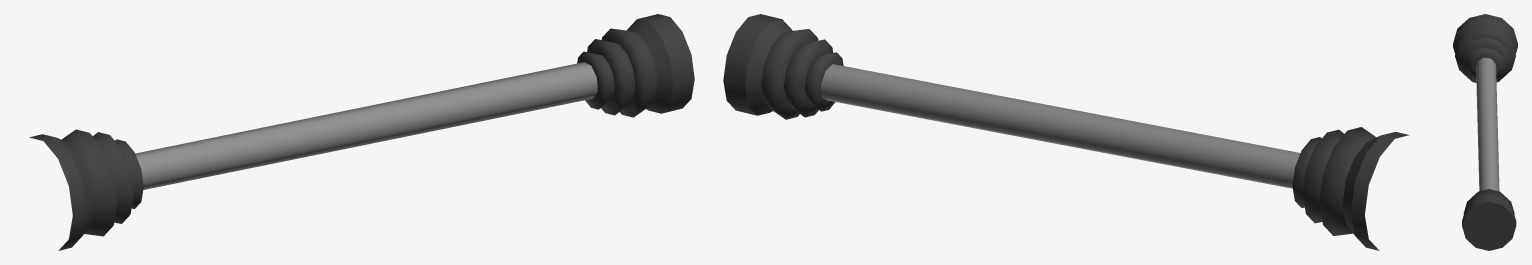
The model's file is halfshaft.glb.
3 views of the same model, side by side, from view 1: azimuth 30°, elevation 25°; view 2: azimuth 150°, elevation 25°; view 3: azimuth 270°, elevation 25° (orthographic). The views are drawn at different scales.
Parts seen in each view (by area): view 1: Object004, lansdale_halfshaft_R; view 2: Object004, lansdale_halfshaft_R; view 3: lansdale_halfshaft_R, Object004.
Boxes of the visible parts, bbox=[...] form: Object004: bbox=[135, 62, 597, 189]; lansdale_halfshaft_R: bbox=[29, 14, 694, 250]; Object004: bbox=[821, 64, 1300, 188]; lansdale_halfshaft_R: bbox=[723, 14, 1409, 250]; lansdale_halfshaft_R: bbox=[1453, 14, 1517, 250]; Object004: bbox=[1476, 57, 1499, 191].
Bounding box in the file's own units: 0.00966 × 0.00177 × 0.00156.
2 materials, 1 textured.
